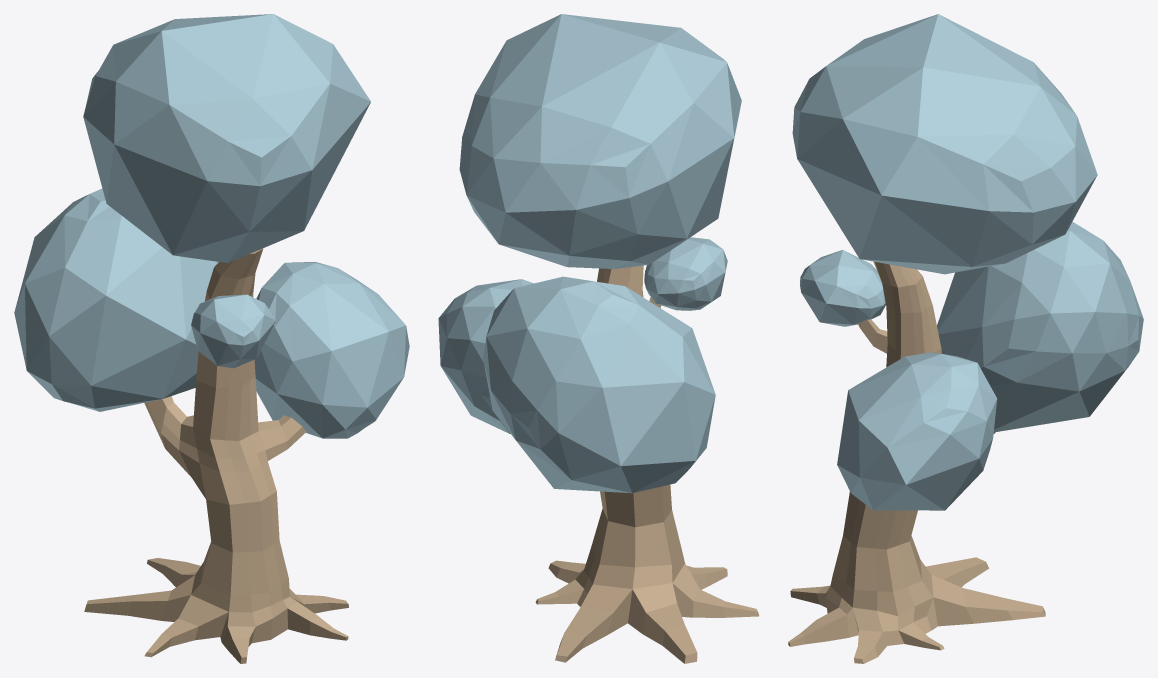
File: Wishing_Tree2.fbx
The picture shows the model from 3 angles, left to right: view 1: azimuth 30°, elevation 25°; view 2: azimuth 150°, elevation 25°; view 3: azimuth 270°, elevation 25°; orthographic projection.
Visible parts, largest first — view 1: Wishing; view 2: Wishing; view 3: Wishing.
Part boxes in pixels (box(x1,y1,x2,y2)): Wishing: box(14, 14, 409, 663); Wishing: box(438, 14, 759, 663); Wishing: box(788, 14, 1143, 663).
Size of the model in its own units: 505 by 886 by 493.
